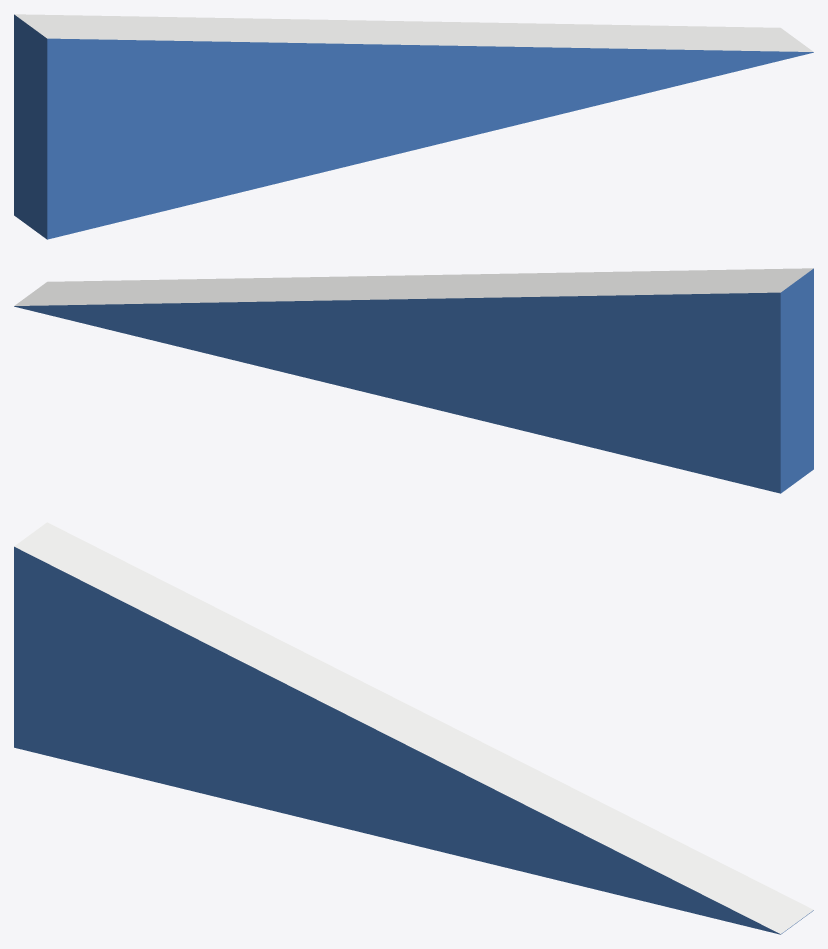
The model's file is telhado_meia_agua_oitao_desce_v2_i25.glb.
3 views of the same model, one above another, from view 1: azimuth 30°, elevation 25°; view 2: azimuth 150°, elevation 25°; view 3: azimuth 330°, elevation 25° (orthographic).
Visible parts, largest first — view 1: telhado_meia_agua_oitao_desce_v2_i25; view 2: telhado_meia_agua_oitao_desce_v2_i25; view 3: telhado_meia_agua_oitao_desce_v2_i25.
Boxes of the visible parts, left/top/right/bottom form: telhado_meia_agua_oitao_desce_v2_i25: left=14, top=14, right=813, bottom=239; telhado_meia_agua_oitao_desce_v2_i25: left=14, top=268, right=813, bottom=493; telhado_meia_agua_oitao_desce_v2_i25: left=14, top=522, right=813, bottom=934.
Bounding box in the file's own units: 2 × 0.5013 × 0.15.
